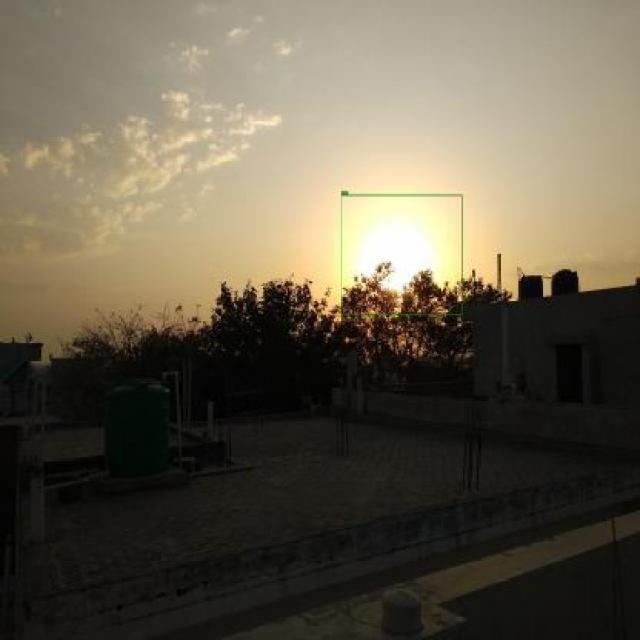other: (340, 194, 462, 314)
